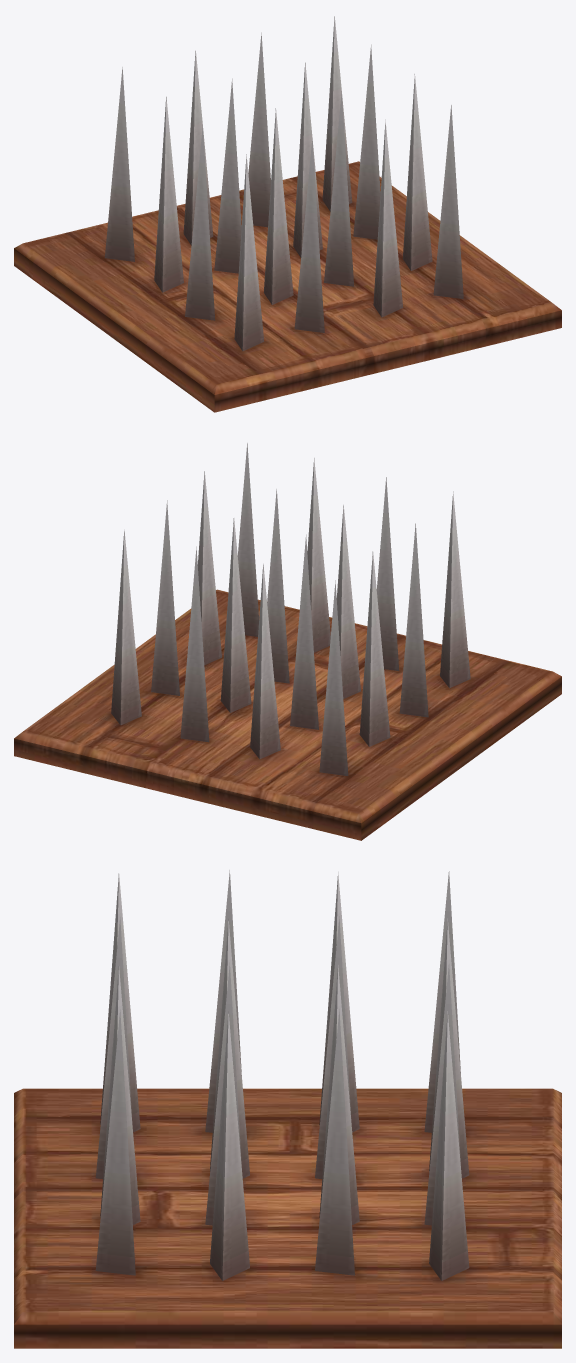
File: 0-trap floor tile.obj
The picture shows the model from 3 angles, top to bottom: view 1: azimuth 30°, elevation 25°; view 2: azimuth 150°, elevation 25°; view 3: azimuth 270°, elevation 25°; orthographic projection. The views are drawn at different scales.
Visible parts, largest first — view 1: trap_floor_tile:pPlane103; view 2: trap_floor_tile:pPlane103; view 3: trap_floor_tile:pPlane103.
Part boxes in pixels (<box>): trap_floor_tile:pPlane103: <box>14,16,561,412</box>; trap_floor_tile:pPlane103: <box>14,443,561,840</box>; trap_floor_tile:pPlane103: <box>14,870,561,1348</box>.
Bounding box in the file's own units: 2 × 1.18 × 2.
1 material, 1 textured.
